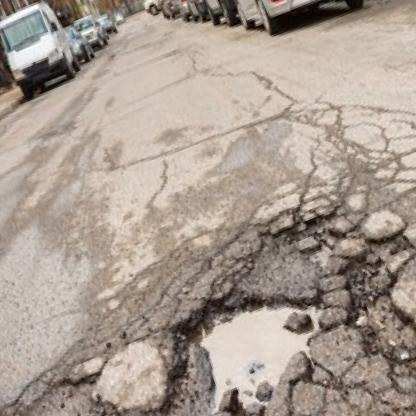pothole: (161, 245, 371, 416)
